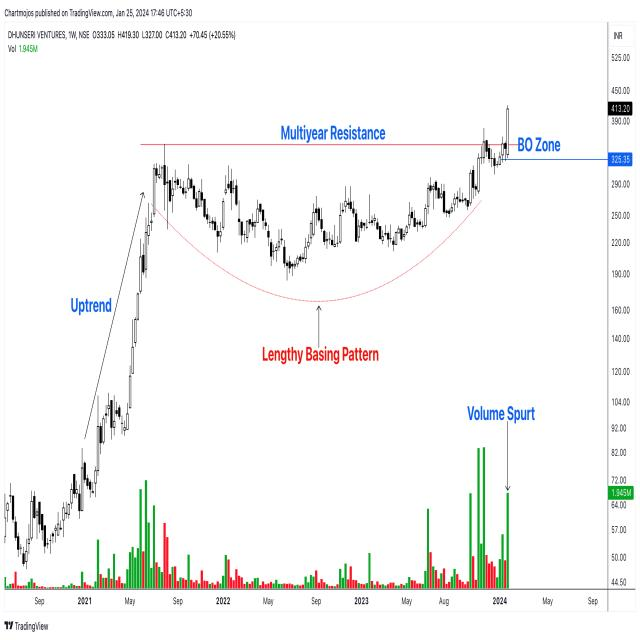Cup-and-handle: (149, 137, 516, 283)
